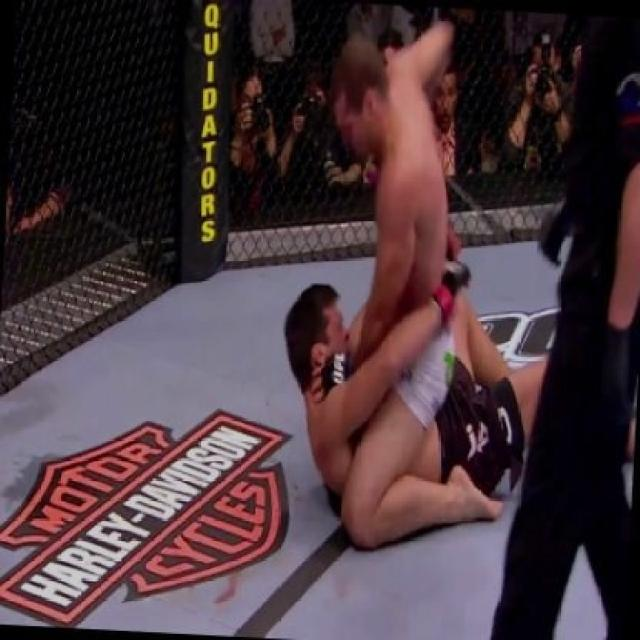fight: (282, 0, 566, 556)
